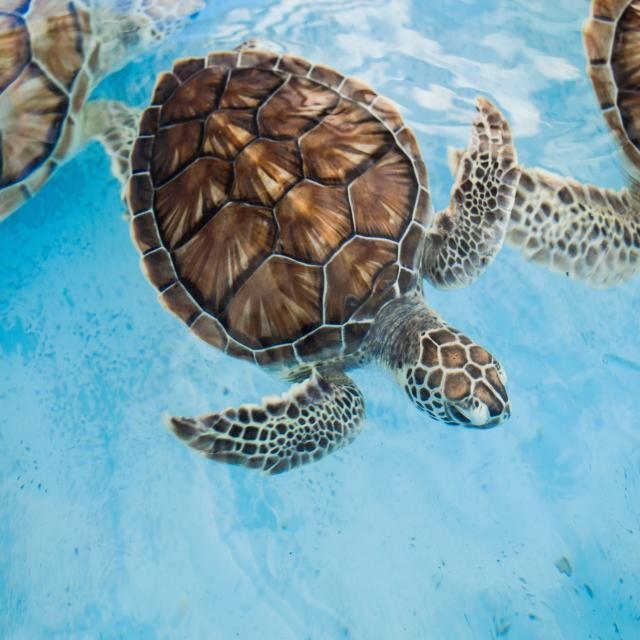animal: (77, 40, 545, 479)
